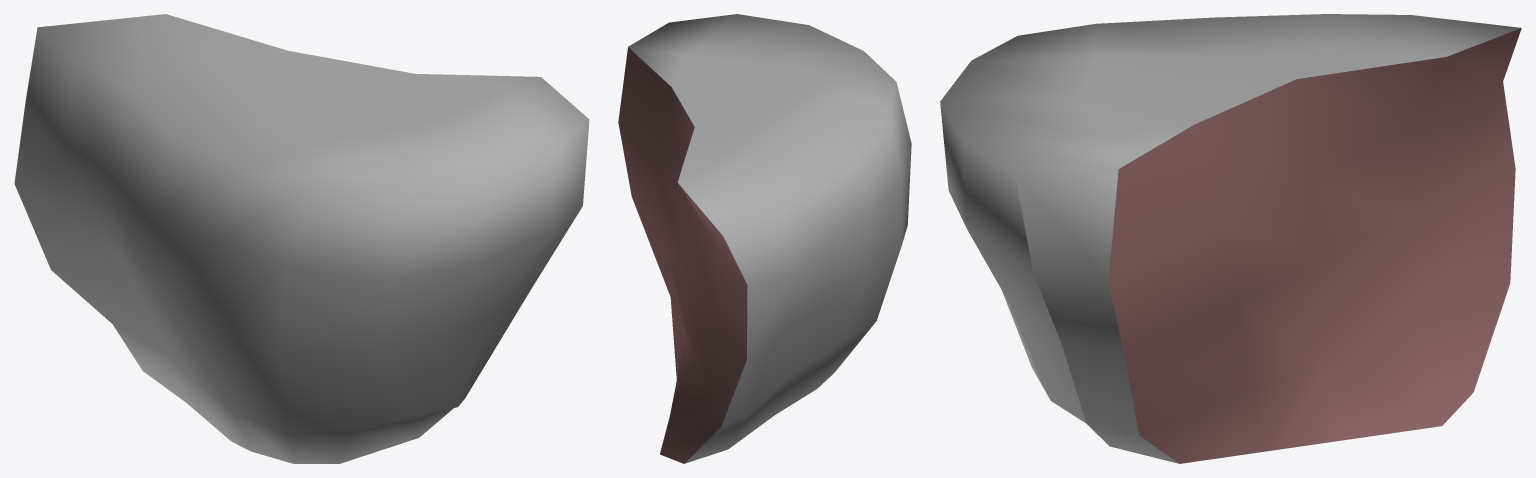
3 views of the same model, side by side, from view 1: azimuth 30°, elevation 25°; view 2: azimuth 150°, elevation 25°; view 3: azimuth 270°, elevation 25° (orthographic). The views are drawn at different scales.
Visible parts, largest first — view 1: p3_2; view 2: p3_2; view 3: p3_2.
Boxes of the visible parts, bbox=[...] form: p3_2: bbox=[14, 14, 589, 463]; p3_2: bbox=[618, 14, 911, 463]; p3_2: bbox=[940, 14, 1521, 463].
Size of the model in its own units: 6.72 by 6.18 by 8.95.
